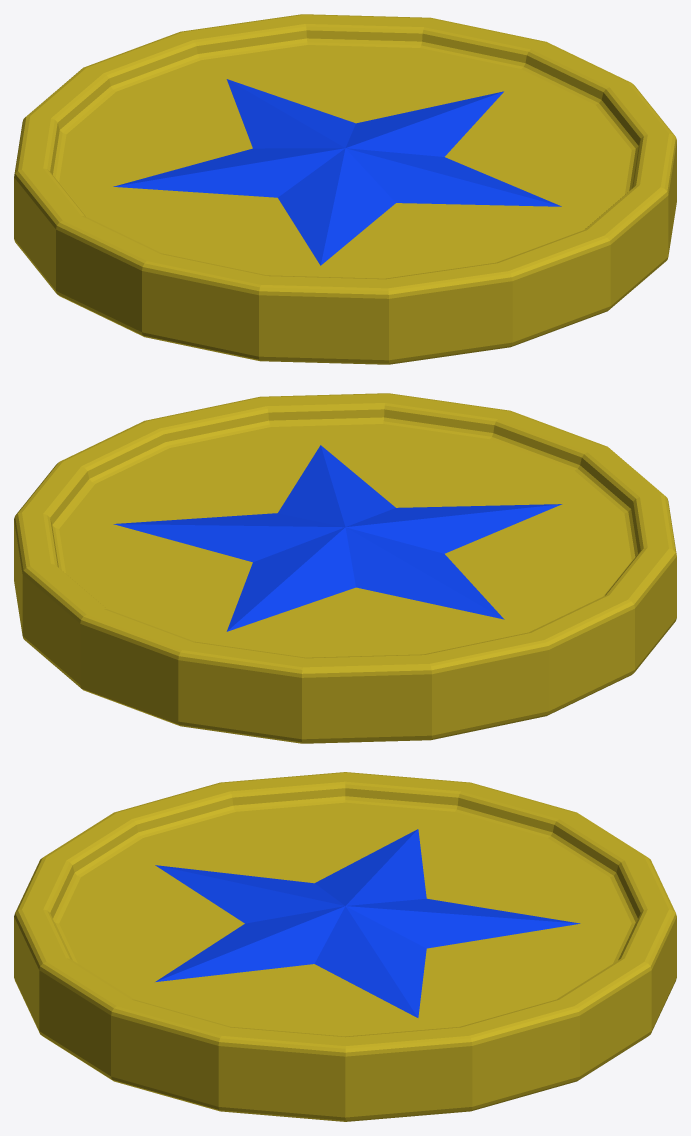
The model's file is Coin.fbx.
3 views of the same model, one above another, from view 1: azimuth 30°, elevation 25°; view 2: azimuth 150°, elevation 25°; view 3: azimuth 270°, elevation 25° (orthographic).
Parts seen in each view (by area): view 1: Coin, Star; view 2: Coin, Star; view 3: Coin, Star.
Boxes of the visible parts, box(x1,y1,x2,y2) form: Coin: box(14, 14, 676, 364); Star: box(113, 79, 561, 265); Coin: box(14, 393, 676, 743); Star: box(113, 445, 562, 631); Coin: box(14, 772, 676, 1121); Star: box(155, 829, 580, 1017).
Bounding box in the file's own units: 200 × 27.25 × 200.
